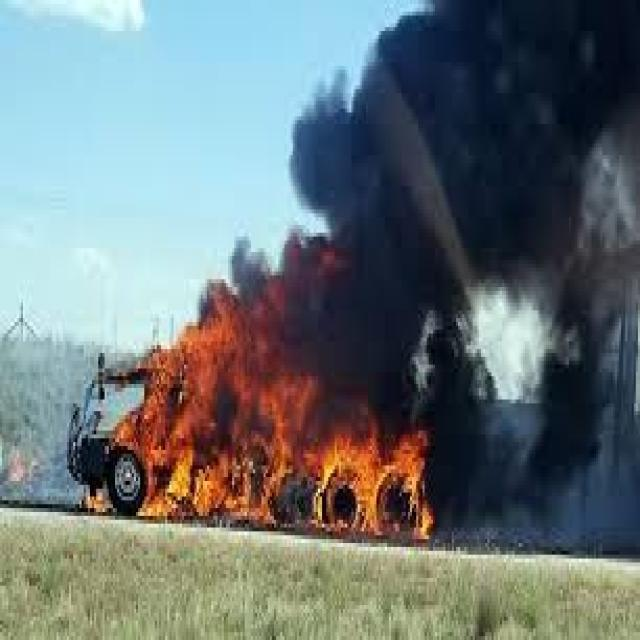Fire: (140, 349, 312, 528), (321, 440, 428, 540)
Smoke: (349, 0, 640, 396)
